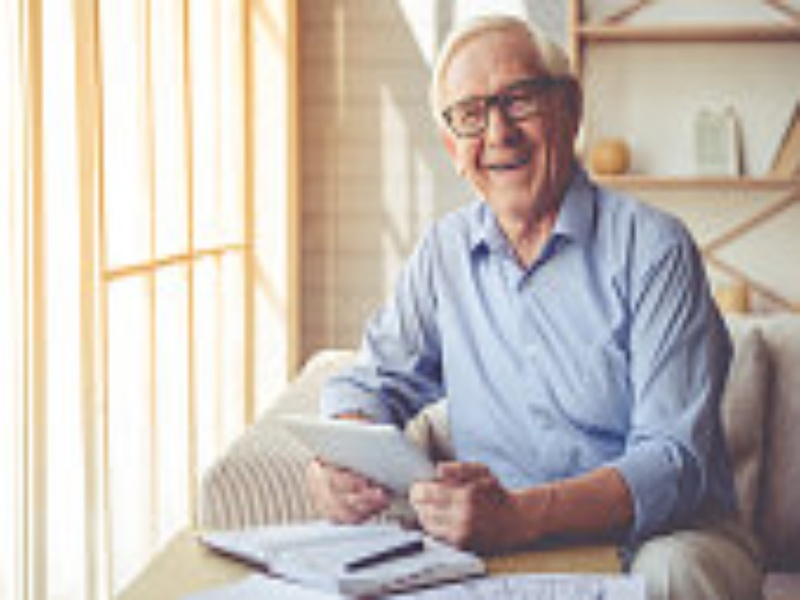person: (191, 13, 777, 573)
